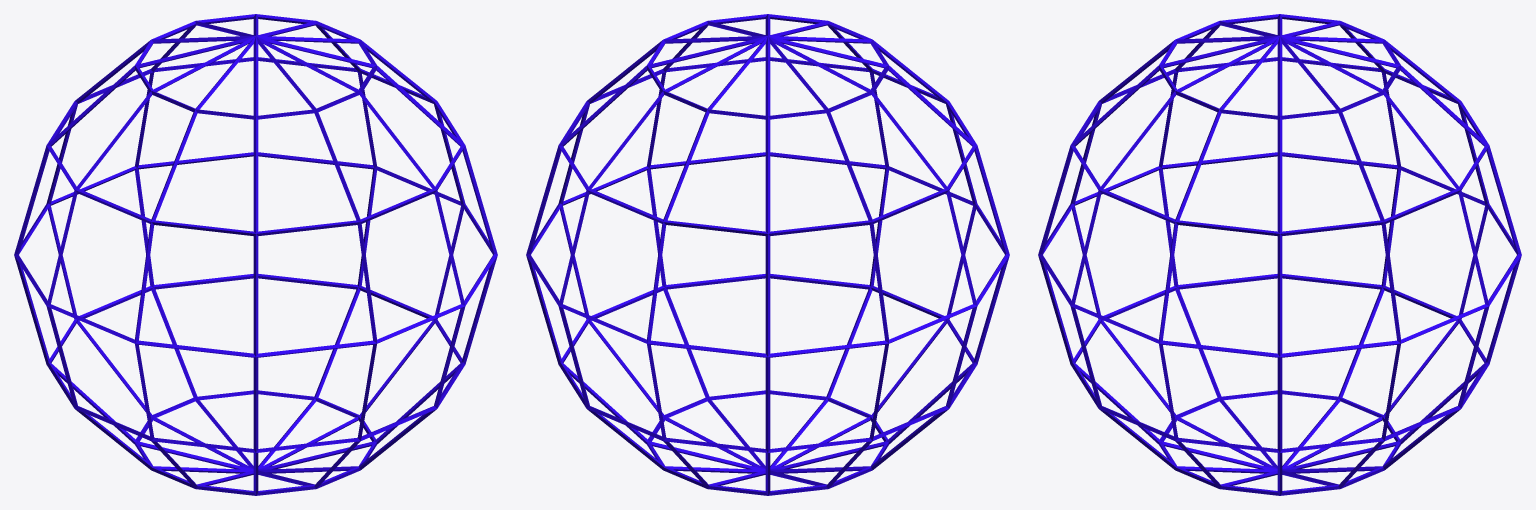
File: sphere-wireframe.glb
3 views of the same model, side by side, from view 1: azimuth 30°, elevation 25°; view 2: azimuth 150°, elevation 25°; view 3: azimuth 270°, elevation 25° (orthographic).
Parts seen in each view (by area): view 1: Sphere.001; view 2: Sphere.001; view 3: Sphere.001.
Part boxes in pixels (box(x1,y1,x2,y2)): Sphere.001: box(14, 14, 497, 495); Sphere.001: box(526, 14, 1009, 495); Sphere.001: box(1038, 14, 1521, 495).
Size of the model in its own units: 2.02 by 2.02 by 2.02.
